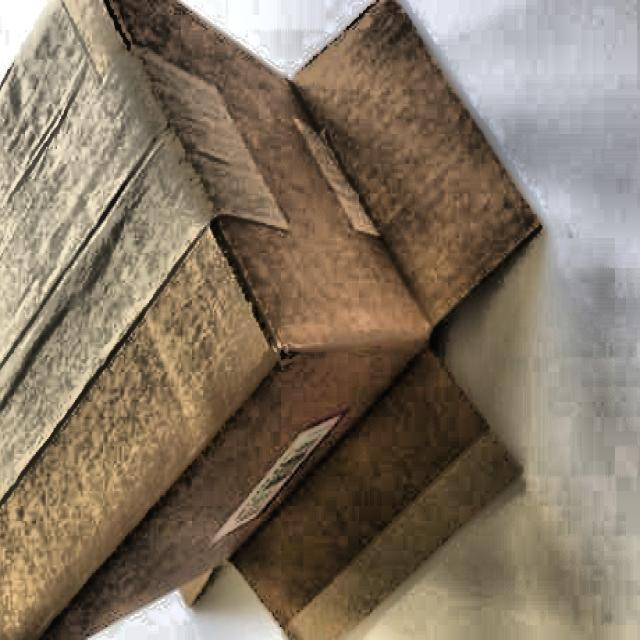cardboard: (0, 0, 543, 640)
